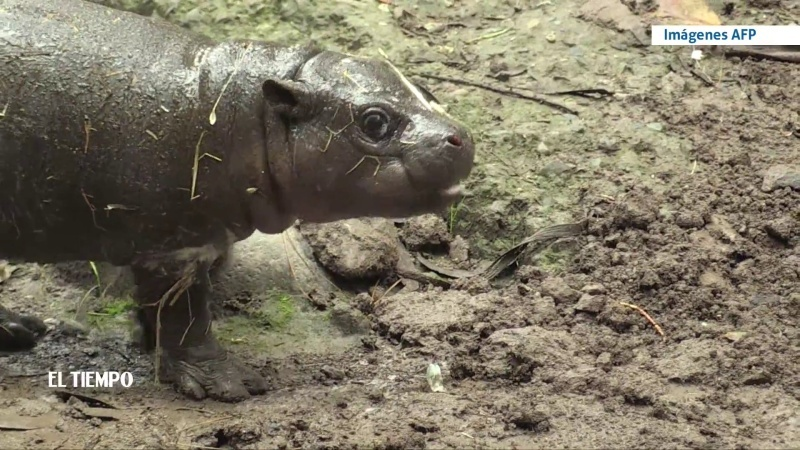hipopotamo: (1, 1, 489, 409)
